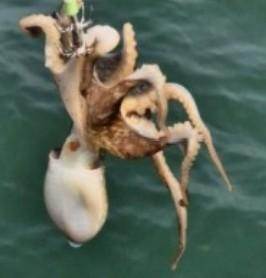Cephalopod: (20, 10, 234, 271)
